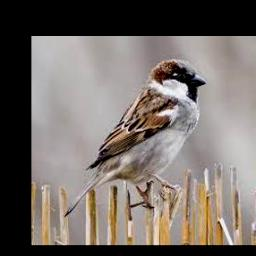Sparrow: (64, 58, 207, 217)
